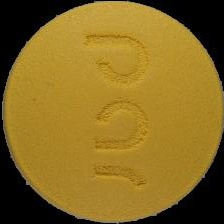0179-0140: (0, 0, 224, 224)
